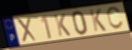0: (72, 10, 89, 36)
1: (41, 14, 53, 40)
C: (106, 6, 125, 31)
K: (88, 8, 108, 33), (53, 13, 72, 37)
X: (16, 17, 38, 44)
